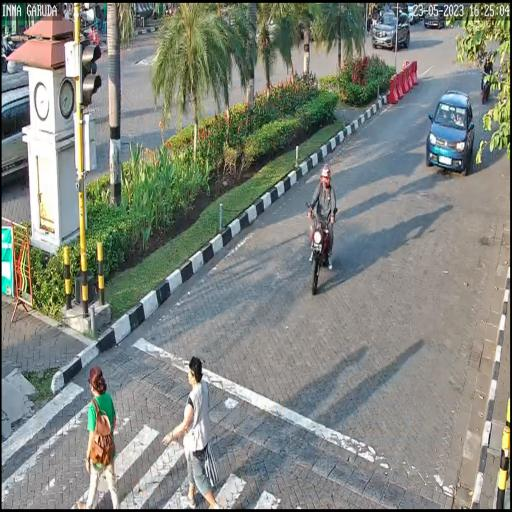mobil: (426, 90, 476, 178)
motor: (304, 198, 342, 300)
